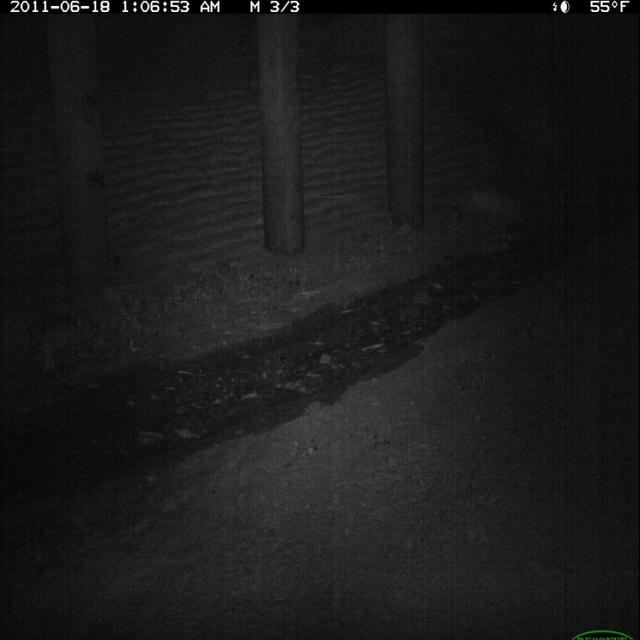bobcat: (31, 308, 91, 386)
